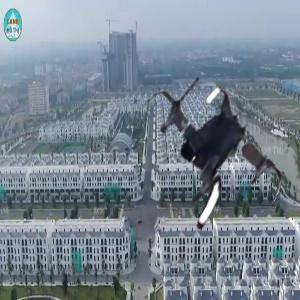drone: (116, 73, 292, 249)
